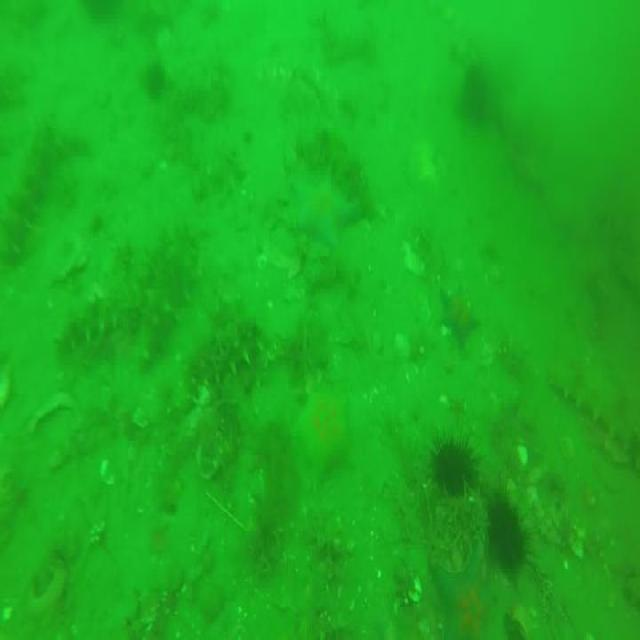echinus: (480, 493, 544, 574), (439, 427, 480, 507), (455, 65, 492, 120), (144, 57, 165, 103)
holothurian: (134, 224, 202, 370), (549, 354, 640, 447), (2, 108, 50, 267), (51, 295, 140, 351), (195, 321, 262, 392), (315, 126, 369, 204)
scallop: (196, 434, 227, 478), (403, 242, 428, 278)
starfish: (284, 168, 359, 266), (439, 284, 484, 350)
